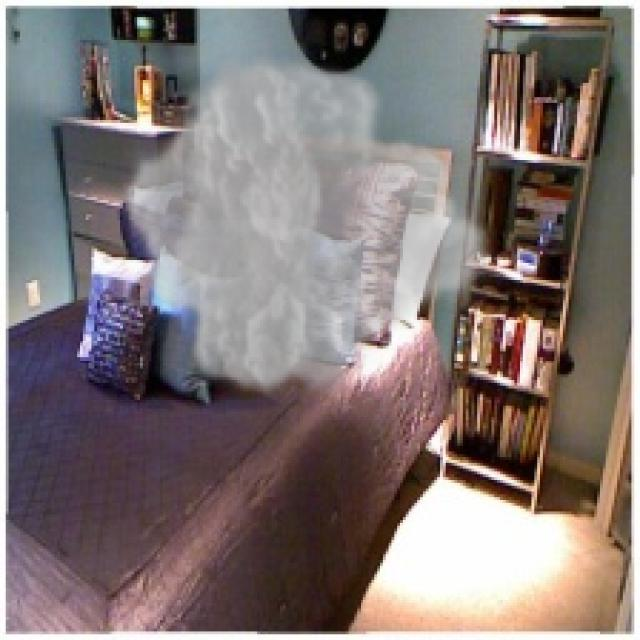smoke: (120, 48, 497, 403)
